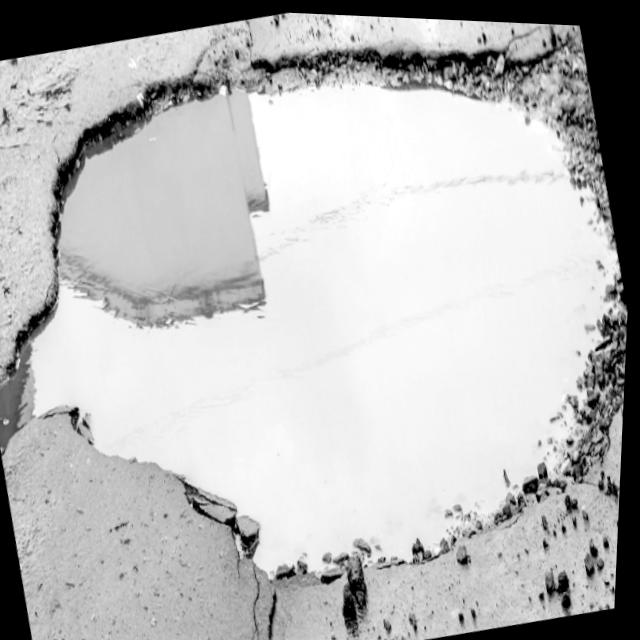pathole: (0, 80, 616, 568), (6, 409, 617, 640), (0, 22, 233, 381), (60, 88, 269, 324), (249, 10, 531, 62), (581, 464, 624, 578)
